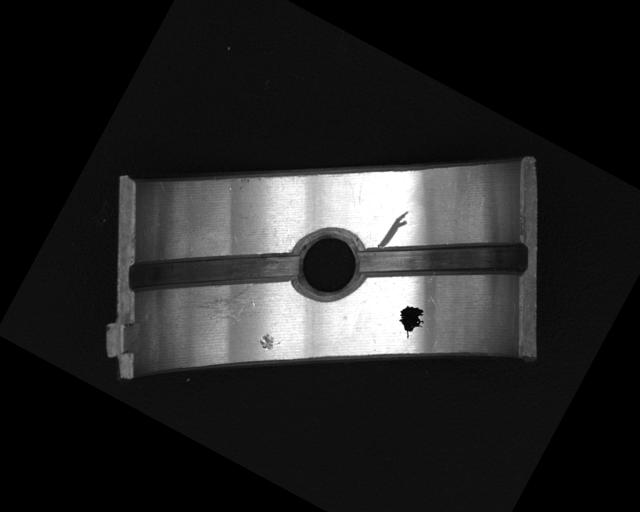blot: (389, 300, 429, 343)
bruise: (256, 330, 282, 355)
gap: (121, 189, 304, 355), (357, 182, 532, 338)
hole: (281, 216, 378, 312)
nick: (376, 205, 412, 254)
scratch: (175, 258, 263, 342)
